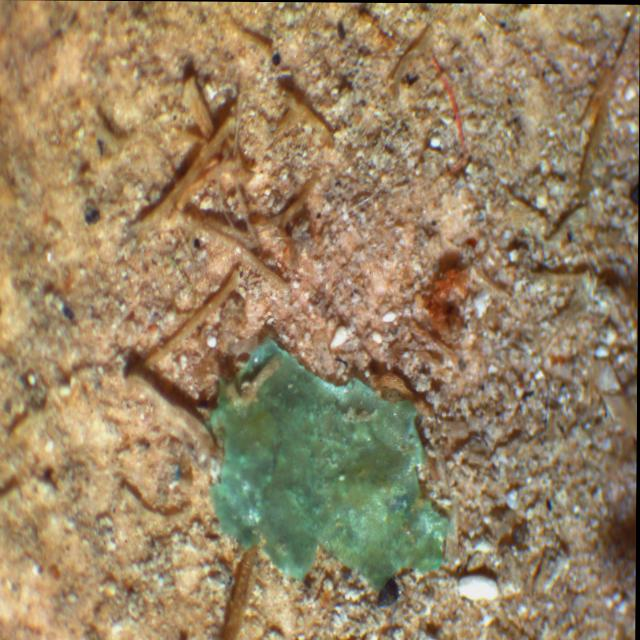microplastic: (163, 325, 504, 632)
